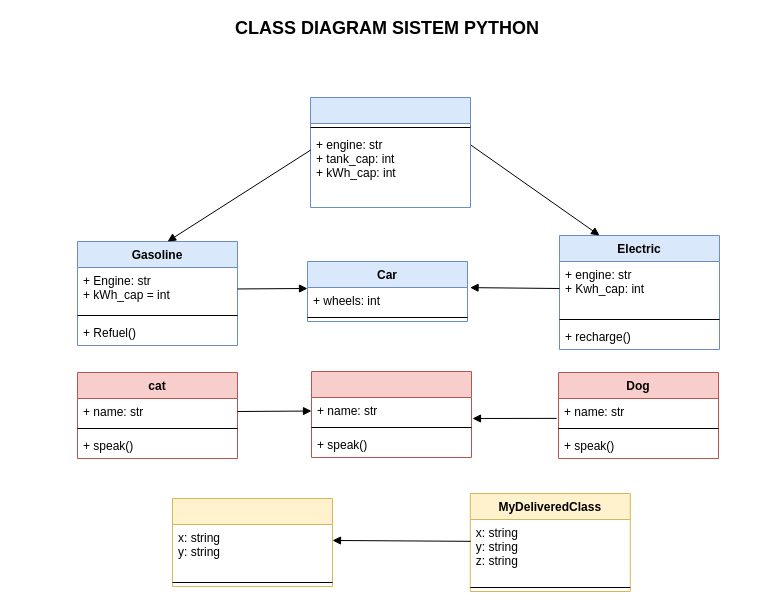
The diagram is 774 pixels wide and 609 high, and some of its shapes have lost their labels. The shapes that lost their labels are listed below. From the top down, each one's box as (x1, y1, x2, y2) in pixels, then its label:
(310, 96, 470, 208): Hybrid
(310, 370, 472, 458): Animal
(172, 498, 332, 586): MyBaseClass
